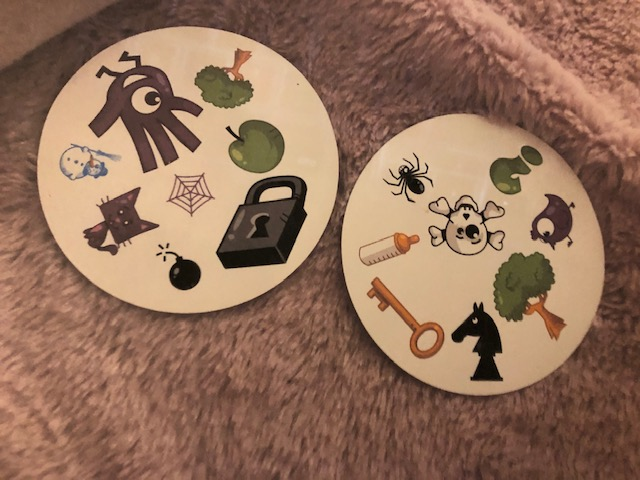araignee: (379, 146, 438, 208)
arbre: (491, 249, 571, 342), (194, 41, 263, 110)
biberon: (356, 229, 423, 272)
bombe: (150, 239, 205, 291)
bonhomme_neige: (57, 137, 122, 183)
cadenas: (216, 167, 311, 269)
chat: (82, 185, 161, 256)
cheval: (450, 302, 507, 387)
cle: (364, 273, 445, 362)
dooble: (81, 43, 211, 170)
oiseau: (525, 190, 577, 250)
point_interrogation: (482, 141, 545, 195)
pomme: (221, 118, 287, 175)
tete_mort: (422, 189, 511, 260)
toile: (164, 166, 218, 218)
